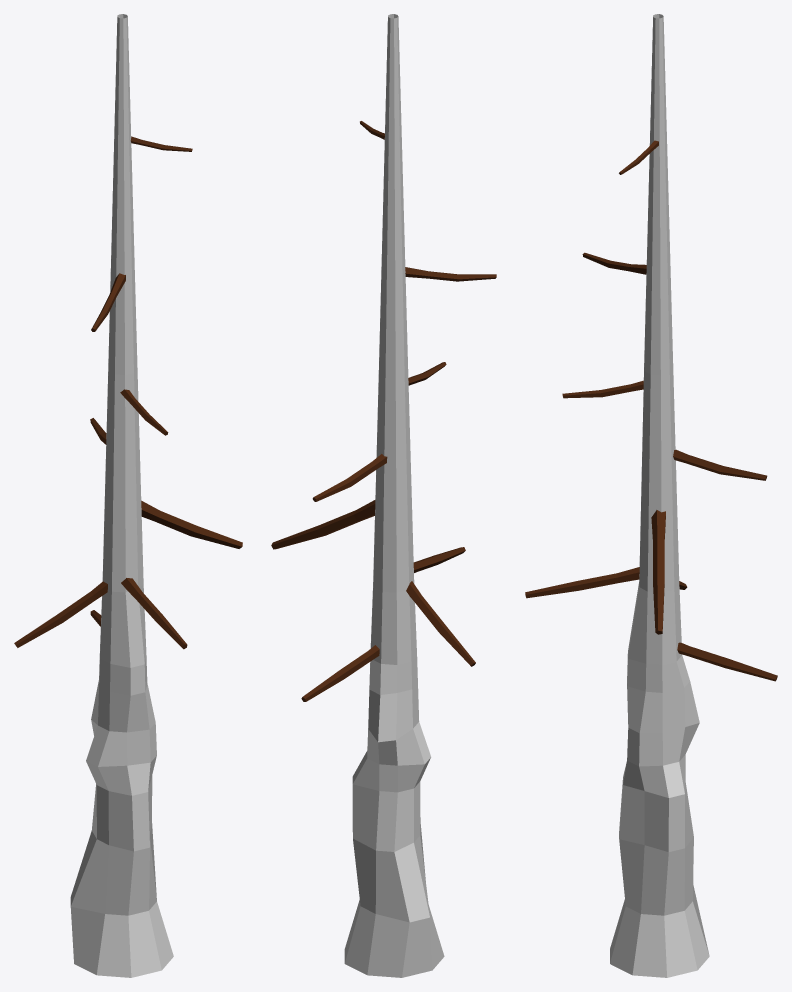
Rendered from 4_pines.fbx.
3 renders of one model, left to right at view 1: azimuth 30°, elevation 25°; view 2: azimuth 150°, elevation 25°; view 3: azimuth 270°, elevation 25°, orthographic.
Parts seen in each view (by area): view 1: Tree Type0 03 Model.007; view 2: Tree Type0 03 Model.007; view 3: Tree Type0 03 Model.007.
Boxes of the visible parts, x1,y1,x2,y2 form: Tree Type0 03 Model.007: (14,14,242,977); Tree Type0 03 Model.007: (271,14,496,977); Tree Type0 03 Model.007: (525,14,777,977).
Bounding box in the file's own units: 199 × 829 × 202.
